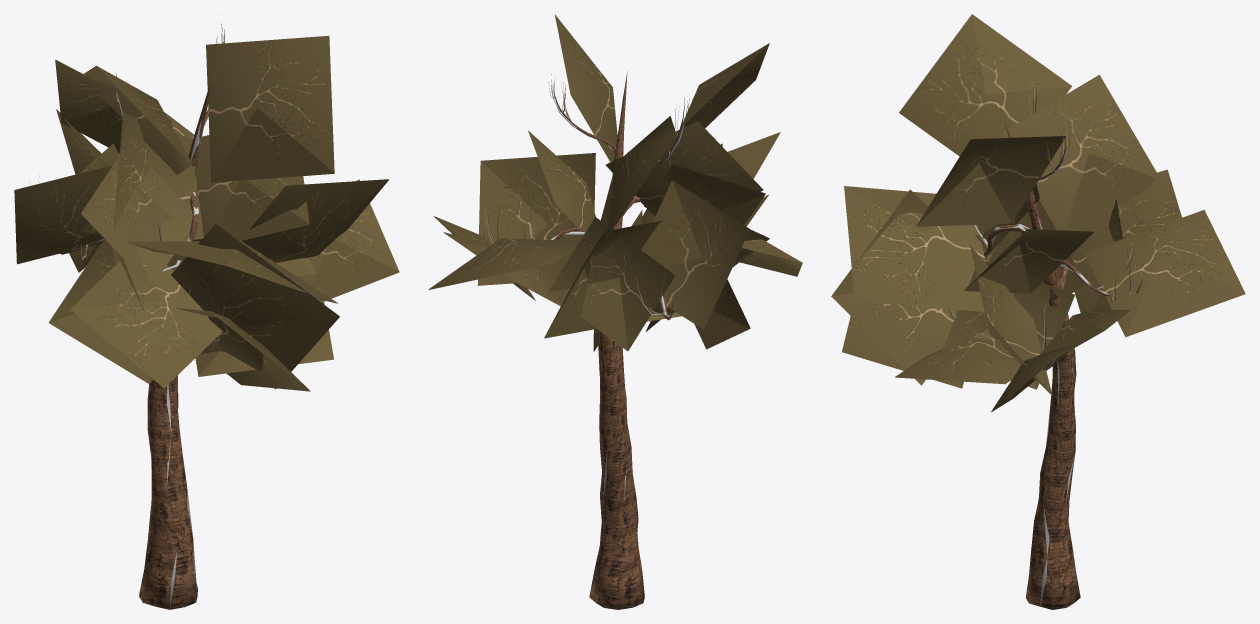
File: tree_1.dae
3 renders of one model, left to right at view 1: azimuth 30°, elevation 25°; view 2: azimuth 150°, elevation 25°; view 3: azimuth 270°, elevation 25°, orthographic. The views are drawn at different scales.
Parts seen in each view (by area): view 1: Leafs, Leafs_reverse, Branches, Volume; view 2: Leafs, Leafs_reverse, Branches, Volume; view 3: Leafs, Leafs_reverse, Branches, Volume.
Part boxes in pixels (x1,y1,x2,y2): Leafs: [14, 35, 399, 390]; Leafs_reverse: [14, 60, 399, 391]; Branches: [38, 24, 224, 609]; Volume: [29, 15, 224, 606]; Leafs: [428, 15, 802, 350]; Leafs_reverse: [429, 16, 802, 351]; Branches: [483, 71, 689, 609]; Volume: [483, 81, 692, 577]; Leafs: [831, 14, 1245, 411]; Leafs_reverse: [831, 86, 1245, 412]; Branches: [949, 77, 1142, 609]; Volume: [951, 78, 1141, 604].
Bounding box in the file's own units: 6.55 × 7.59 × 11.01.
